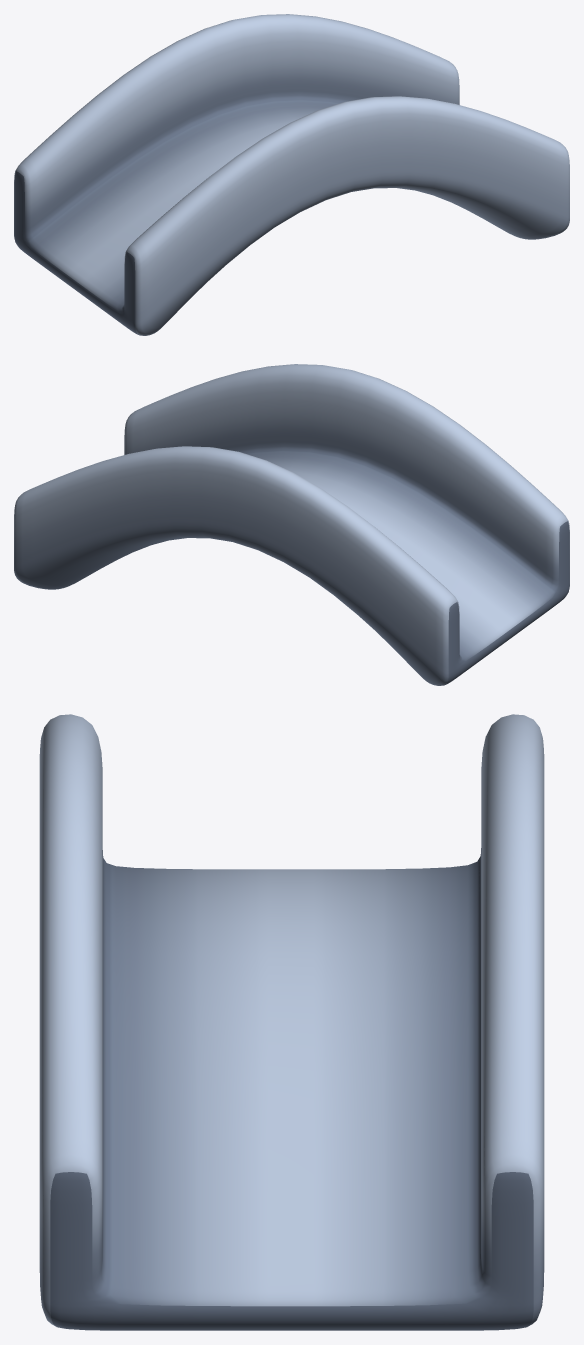
File: PlatformMediumLow_001.glb
The picture shows the model from 3 angles, top to bottom: view 1: azimuth 30°, elevation 25°; view 2: azimuth 150°, elevation 25°; view 3: azimuth 270°, elevation 25°; orthographic projection. The views are drawn at different scales.
Visible parts, largest first — view 1: PlatformMediumLow.001; view 2: PlatformMediumLow.001; view 3: PlatformMediumLow.001.
Boxes of the visible parts, <box> form: PlatformMediumLow.001: <box>14,14,569,335</box>; PlatformMediumLow.001: <box>14,364,569,685</box>; PlatformMediumLow.001: <box>39,714,544,1330</box>.
Bounding box in the file's own units: 4 × 1.64 × 2.
Materials: 1 (1 with a texture image).
